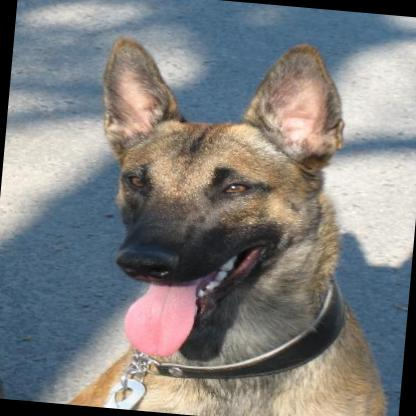malinois: (51, 23, 416, 416)
